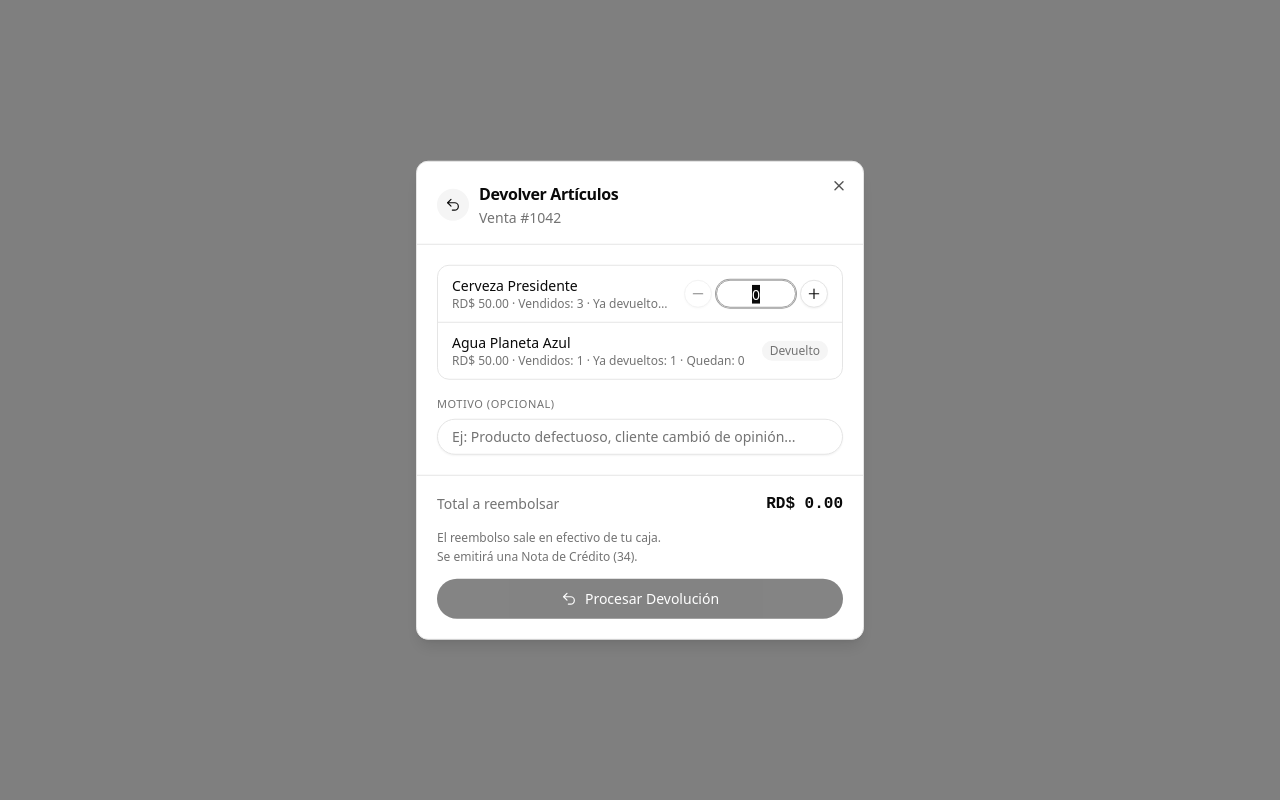
Test: ReturnItemsDialog › rejects fractional quantities for items sold by unit
Replace the text in the field named "Cantidad a devolver de Cerveza Presidente" with "0.5" at (756, 294), box [716,280,796,308]
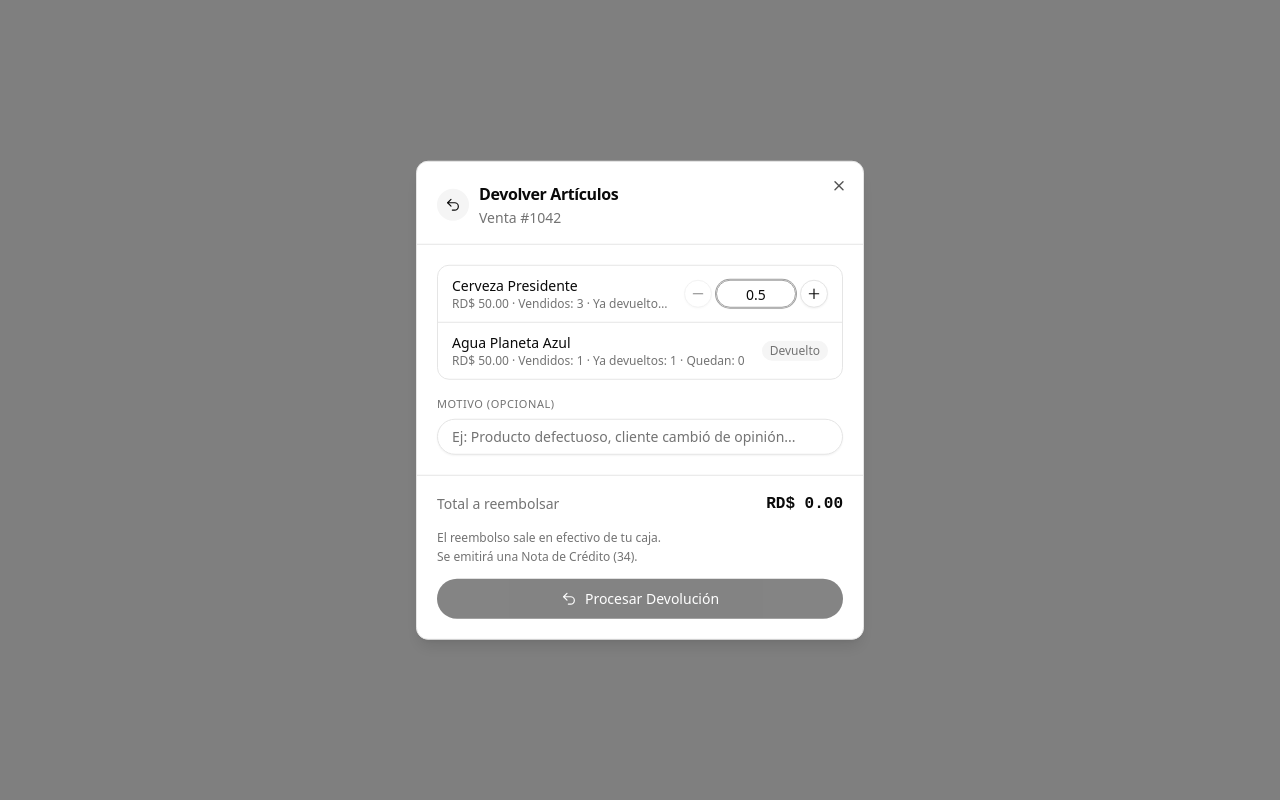
Press Tab
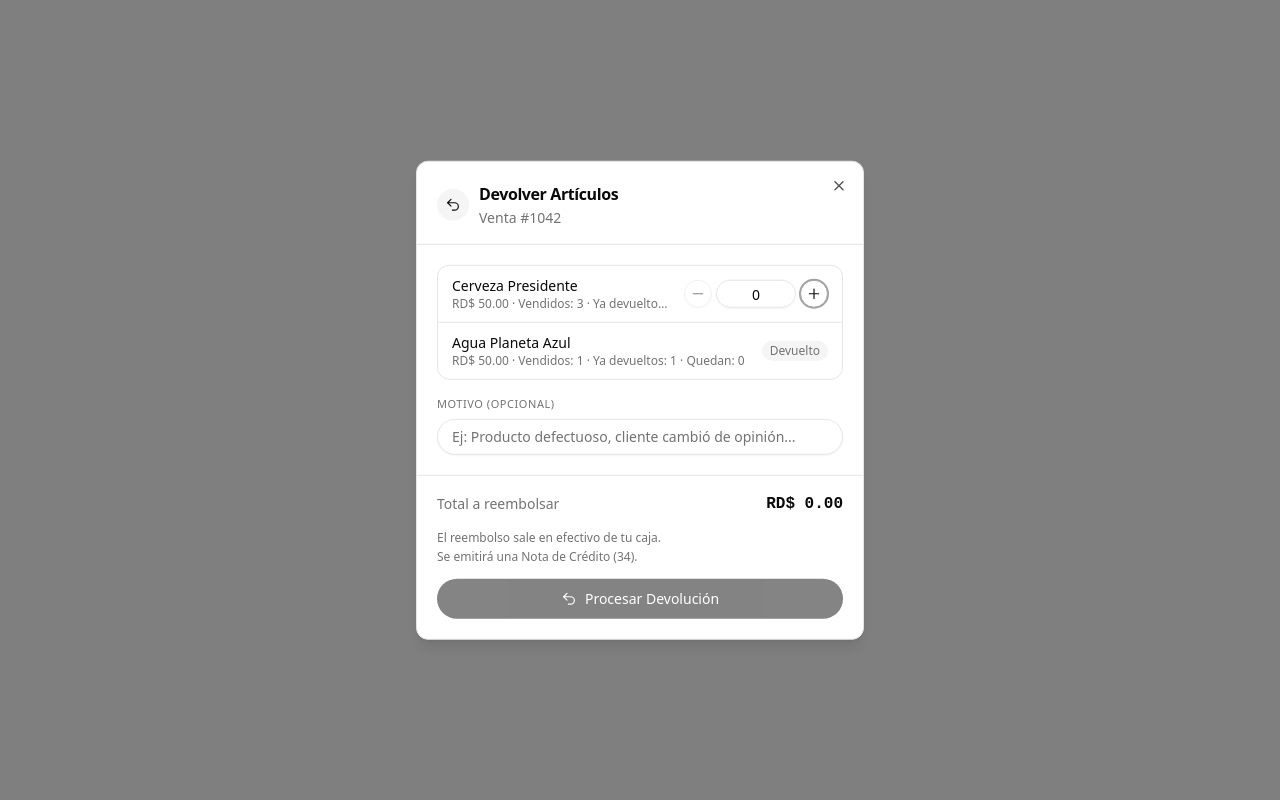
Expected: the button "Procesar Devolución" is disabled, [437,578,843,618]
Expected: the field named "Cantidad a devolver de Cerveza Presidente" holds "0", [716,280,796,308]
